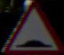Speed Breaker ahead: (7, 8, 54, 49)
